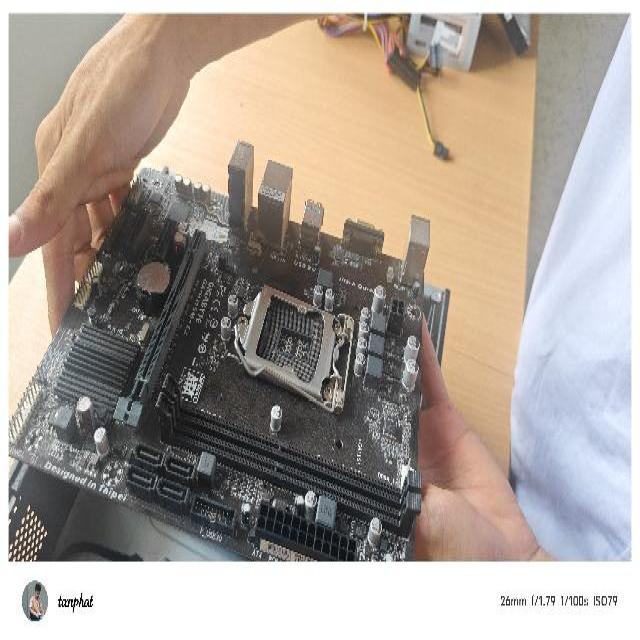Mainboard: (9, 135, 458, 560)
